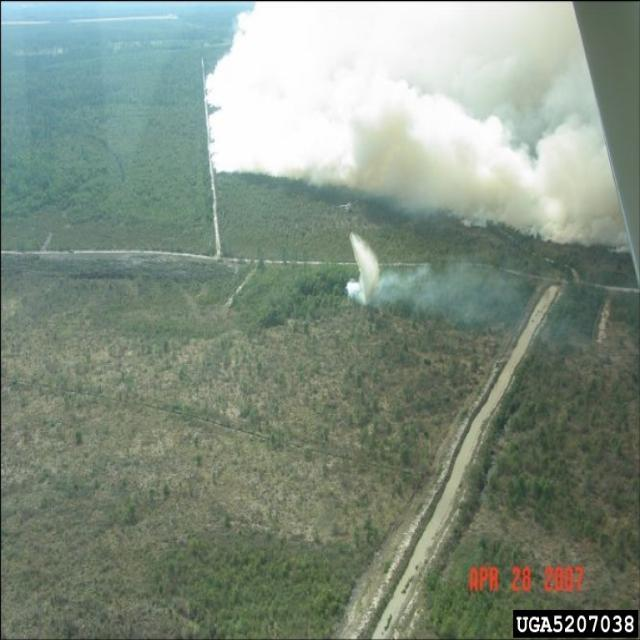Smoke: (204, 0, 632, 254)
